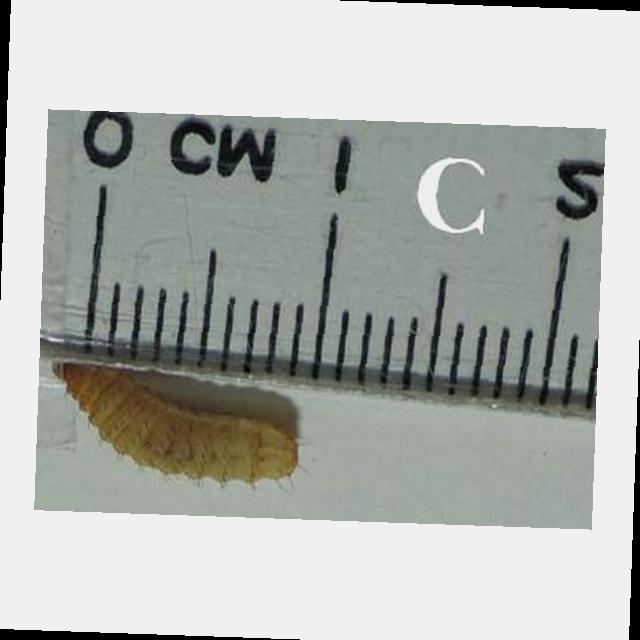Maggot: (49, 360, 300, 490)
